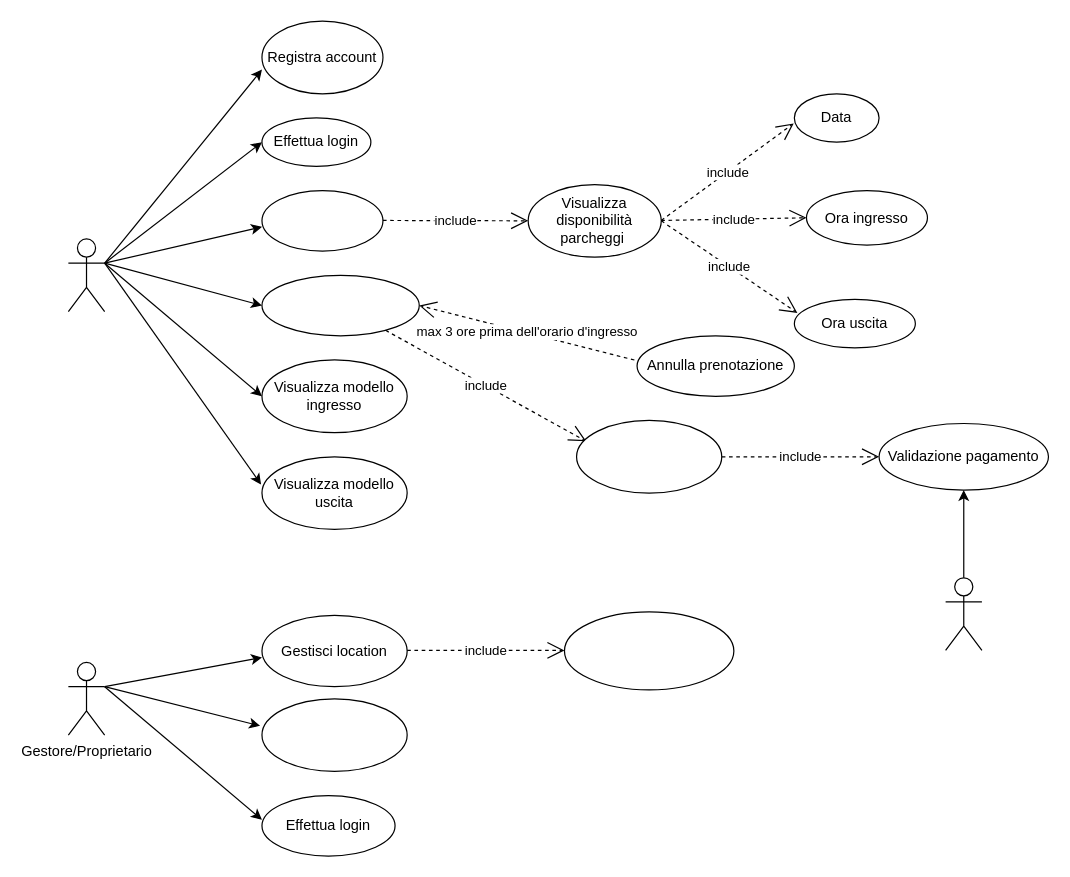
The diagram is 1070 pixels wide and 877 high, and some of its shapes have lost their labels. The shapes that lost their labels are listed below. From the top down, each one's centre as x and y in pixels, then its label:
At [322,220]: "Scegli location".
At [86,275]: "Utente".
At [340,305]: "Effettua prenotazione".
At [648,456]: "Effettua pagamento".
At [963,613]: "Banca".
At [648,650]: "Visualizza prenotazioni effettuate".
At [334,734]: "Gestisci posti auto".
